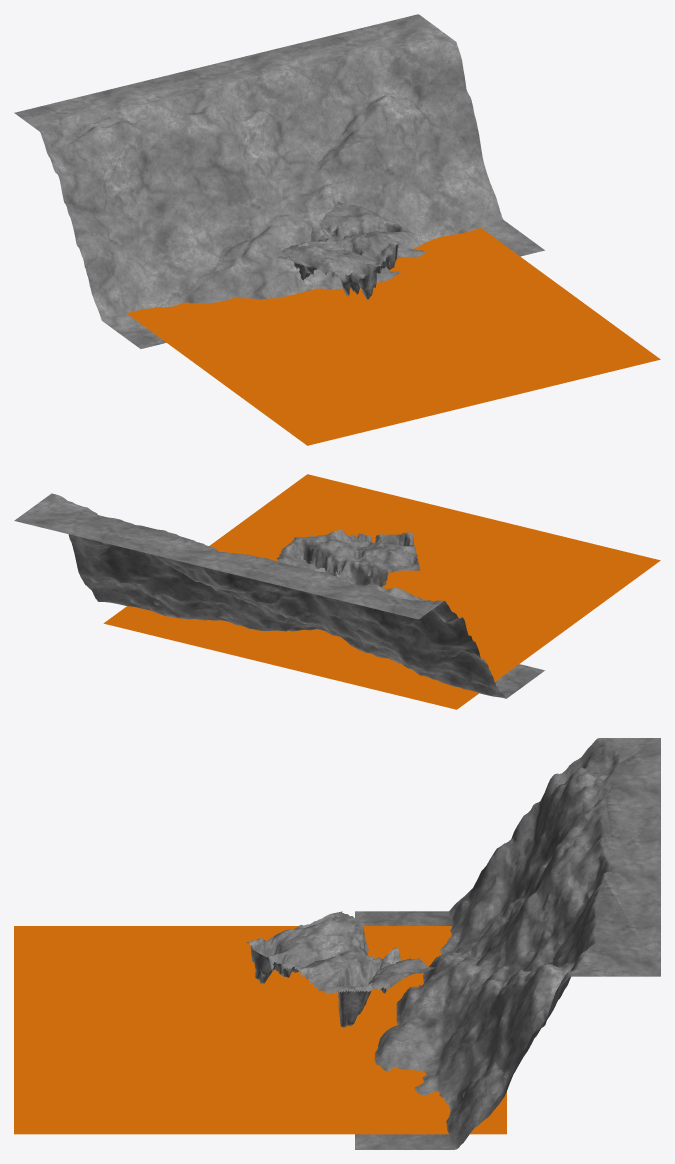
Rendered from dungeon2.fbx.
3 renders of one model, top to bottom at view 1: azimuth 30°, elevation 25°; view 2: azimuth 150°, elevation 25°; view 3: azimuth 270°, elevation 25°, orthographic. The views are drawn at different scales.
Visible parts, largest first — view 1: Landscape.001, Plane, Landscape; view 2: Plane, Landscape.001, Landscape; view 3: Plane, Landscape.001, Landscape.
Part boxes in pixels (<box>): Landscape.001: <box>14,14,544,348</box>; Plane: <box>126,228,660,445</box>; Landscape: <box>276,201,414,299</box>; Plane: <box>103,474,660,709</box>; Landscape.001: <box>14,493,544,698</box>; Landscape: <box>277,529,420,586</box>; Plane: <box>14,926,506,1134</box>; Landscape.001: <box>355,738,660,1149</box>; Landscape: <box>246,911,436,1028</box>.
Bounding box in the file's own units: 90753 × 30773 × 104010.
